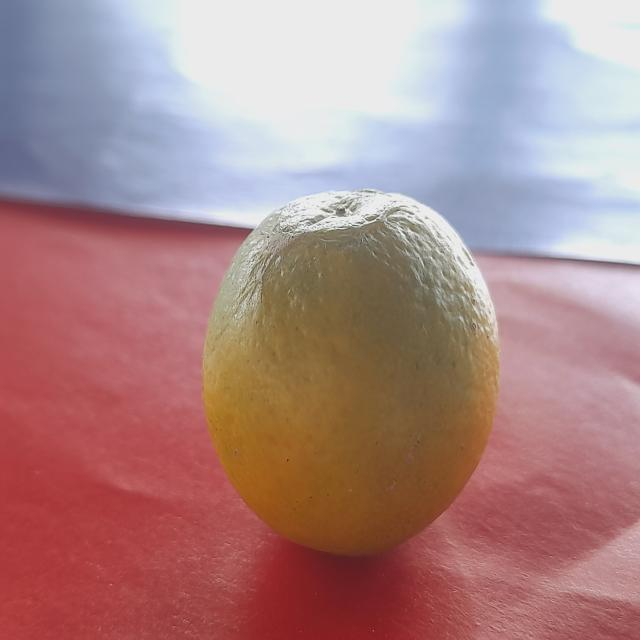greening: (194, 173, 515, 565)
